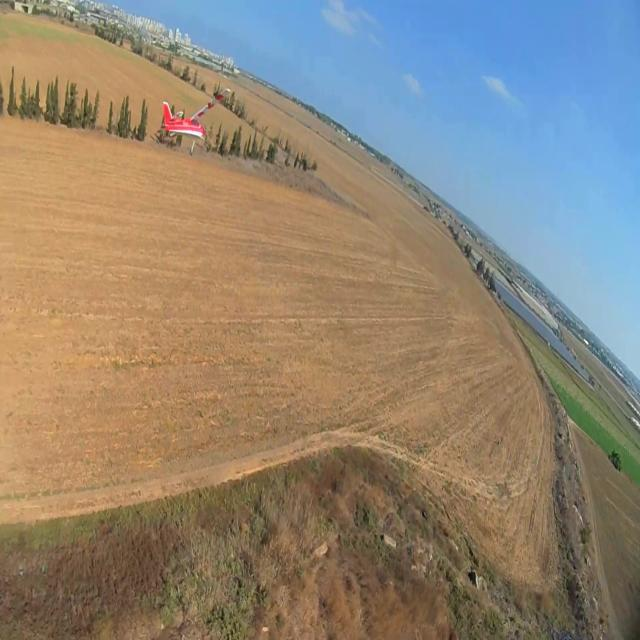iha: (189, 50, 202, 52)
